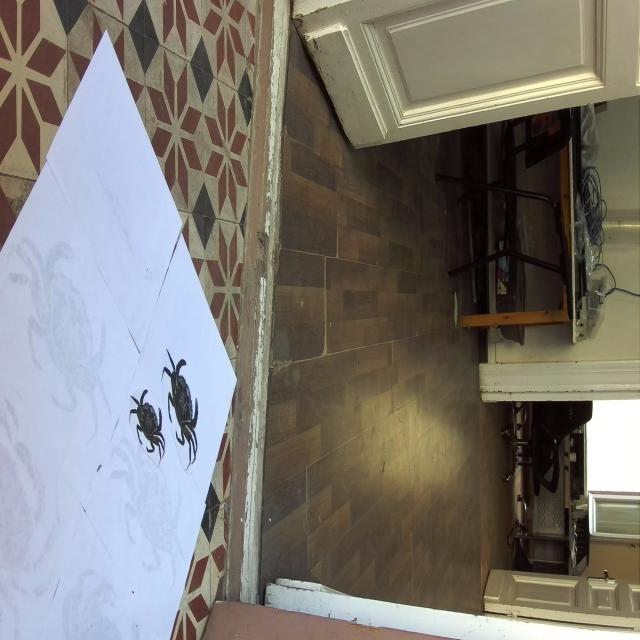European_Green_Crab: (152, 337, 212, 472), (121, 377, 176, 469)
